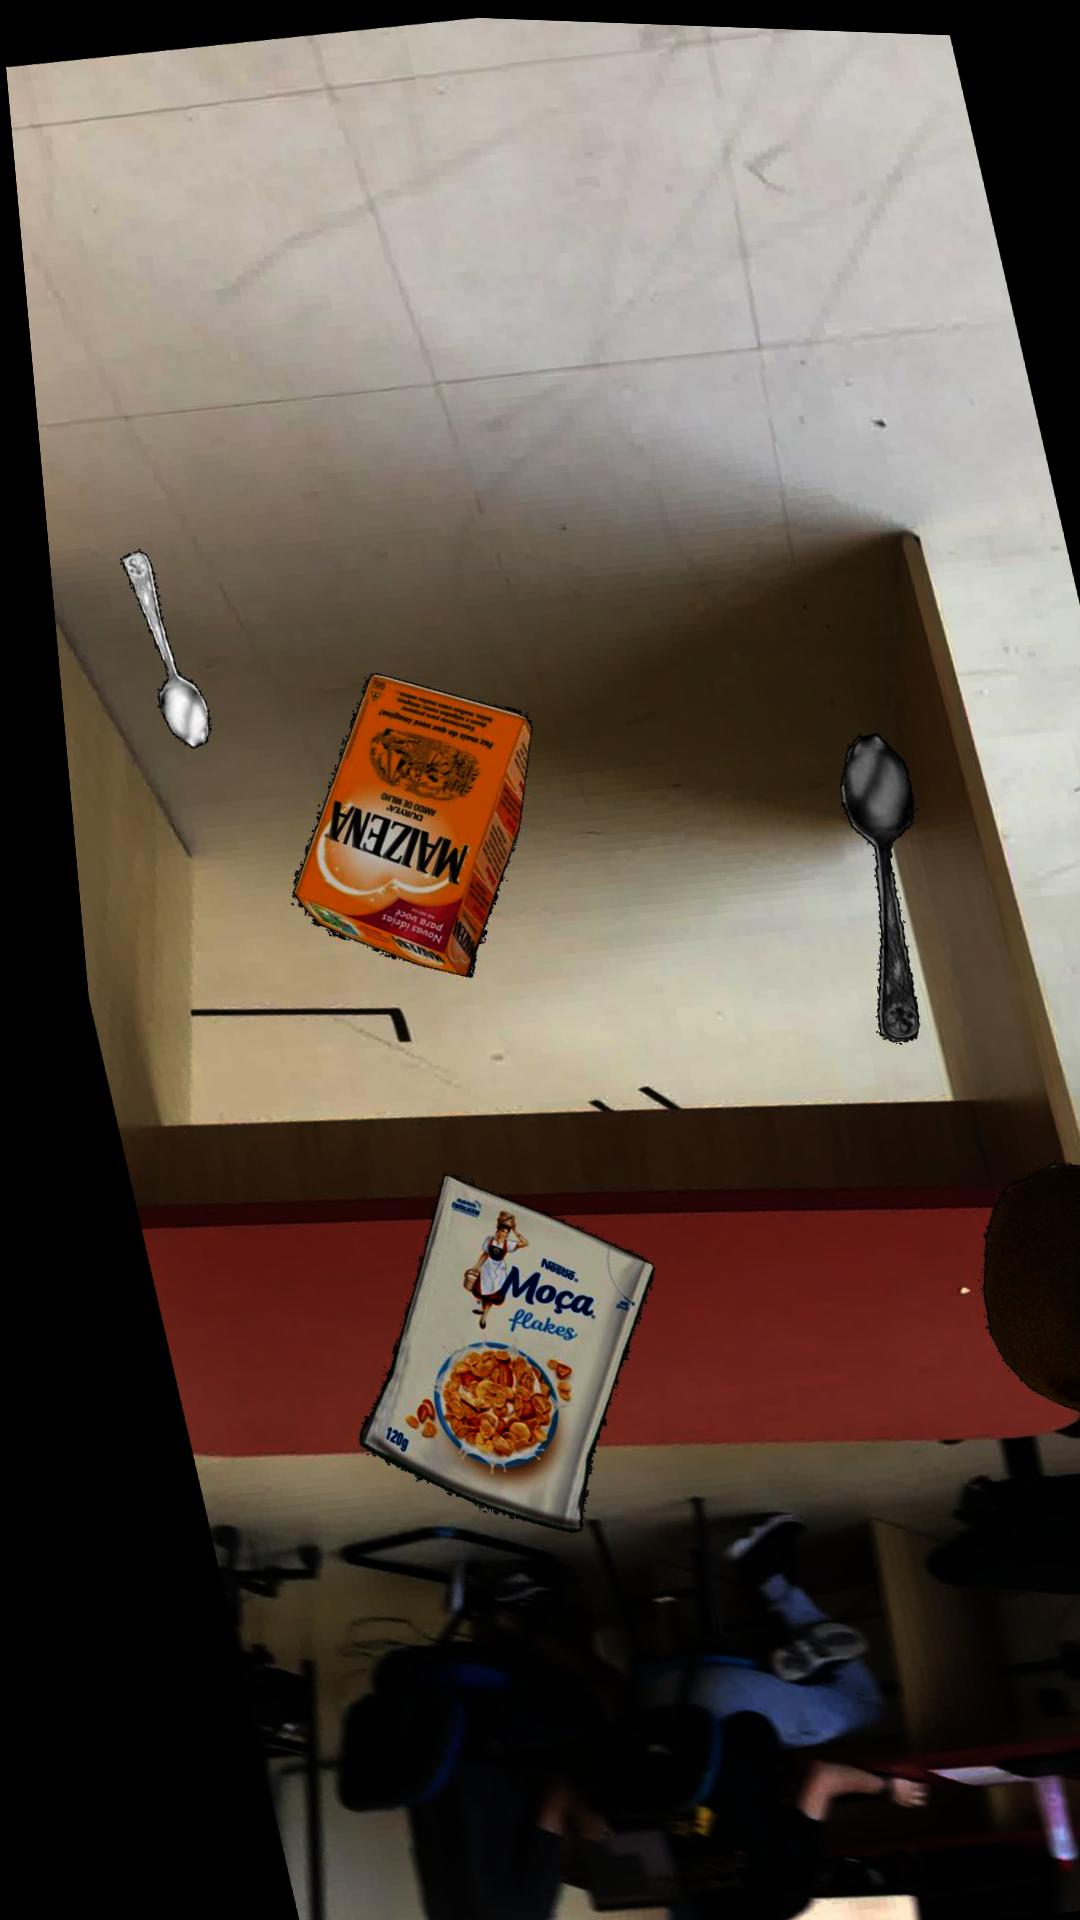corn flakes: (331, 1172, 630, 1530)
kiwi: (959, 1158, 1080, 1410)
spoon: (824, 728, 899, 1036), (109, 551, 196, 749)
